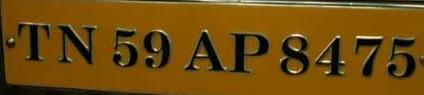4: (312, 28, 347, 82)
5: (388, 30, 420, 82), (110, 19, 140, 72)
7: (351, 24, 385, 81)
8: (278, 27, 311, 81)
9: (140, 27, 176, 76)
A: (184, 26, 227, 81)
N: (54, 19, 98, 70)
P: (230, 28, 269, 79)
T: (14, 16, 54, 66)
